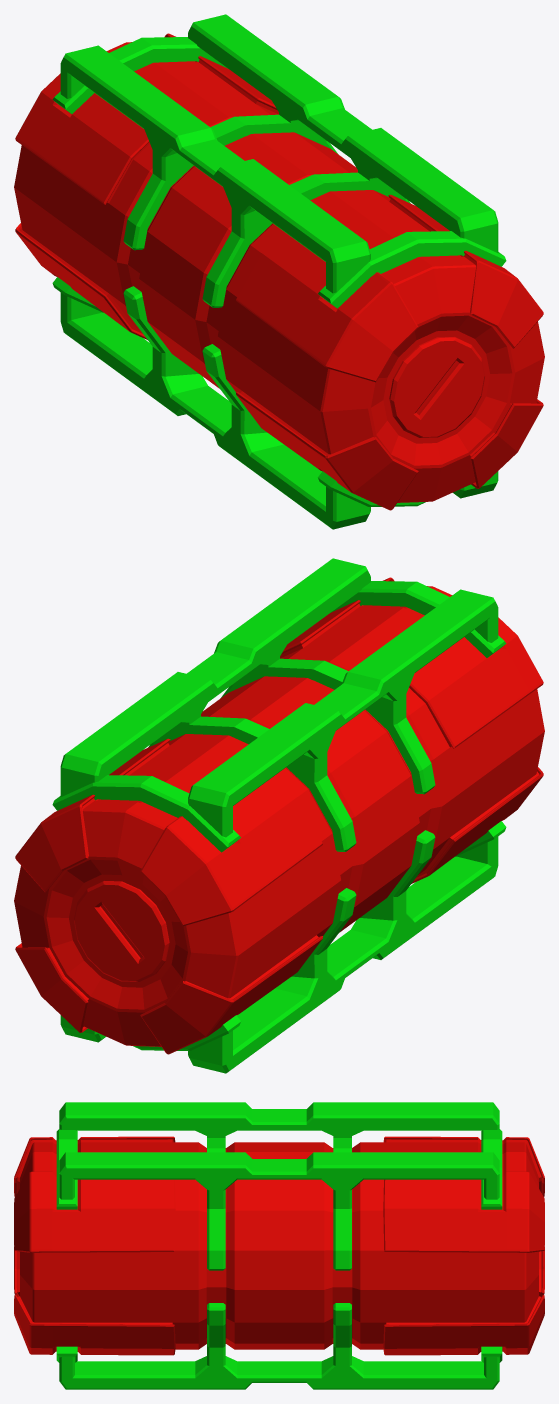
The model's file is Tank.fbx.
3 renders of one model, top to bottom at view 1: azimuth 30°, elevation 25°; view 2: azimuth 150°, elevation 25°; view 3: azimuth 270°, elevation 25°, orthographic. The views are drawn at different scales.
Visible parts, largest first — view 1: Tank; view 2: Tank; view 3: Tank.
Part boxes in pixels (x1,y1,x2,y2): Tank: (14,14,544,529); Tank: (14,558,544,1073); Tank: (14,1102,544,1389).
Bounding box in the file's own units: 4.03 × 10.31 × 4.81.
